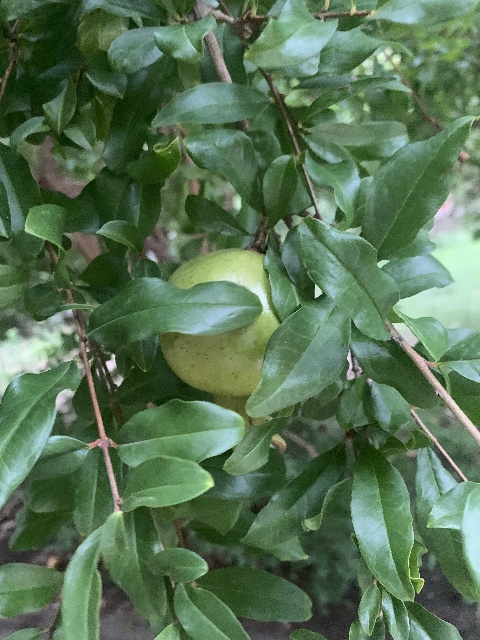mid-growth: (159, 248, 286, 454)
